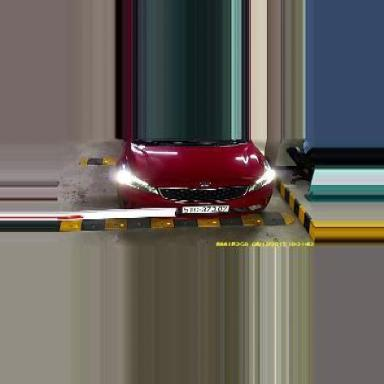License_Plate: (181, 202, 231, 219)
